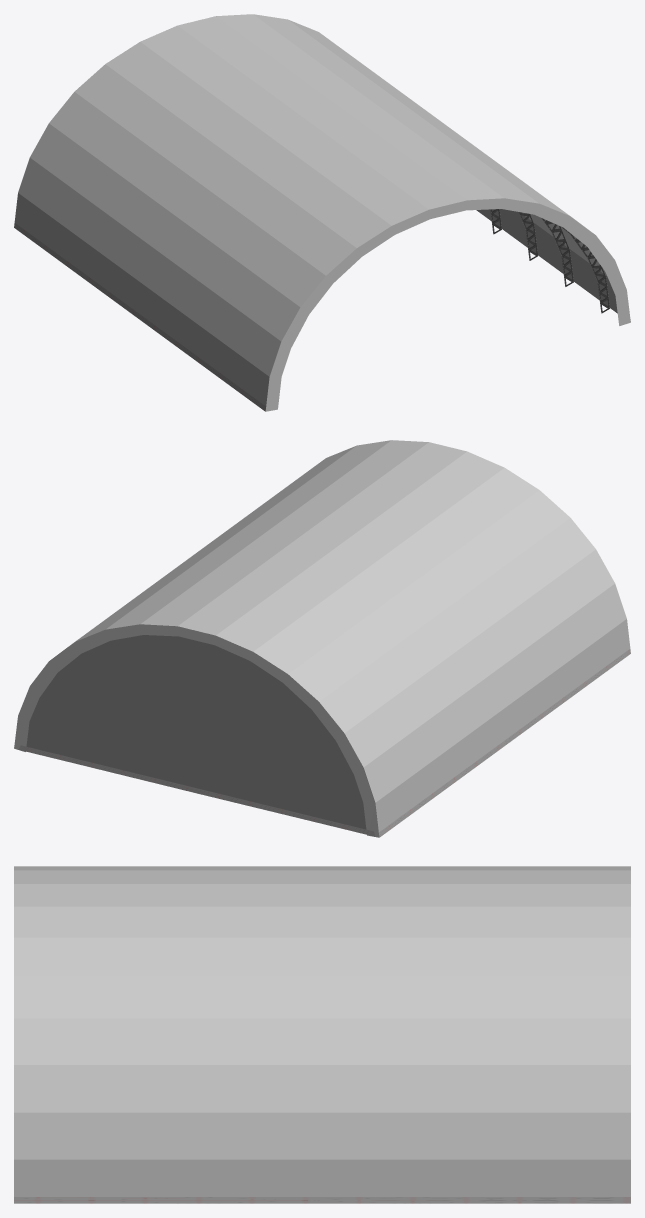
File: hangar_02_a.FBX
The picture shows the model from 3 angles, top to bottom: view 1: azimuth 30°, elevation 25°; view 2: azimuth 150°, elevation 25°; view 3: azimuth 270°, elevation 25°; orthographic projection. The views are drawn at different scales.
Parts seen in each view (by area): view 1: 20,0; view 2: 20,0; view 3: 20,0.
Boxes of the visible parts, x1,y1,x2,y2 form: 20,0: (14, 14, 630, 411); 20,0: (14, 440, 630, 837); 20,0: (14, 866, 630, 1203).
Bounding box in the file's own units: 117 × 49.82 × 139.
